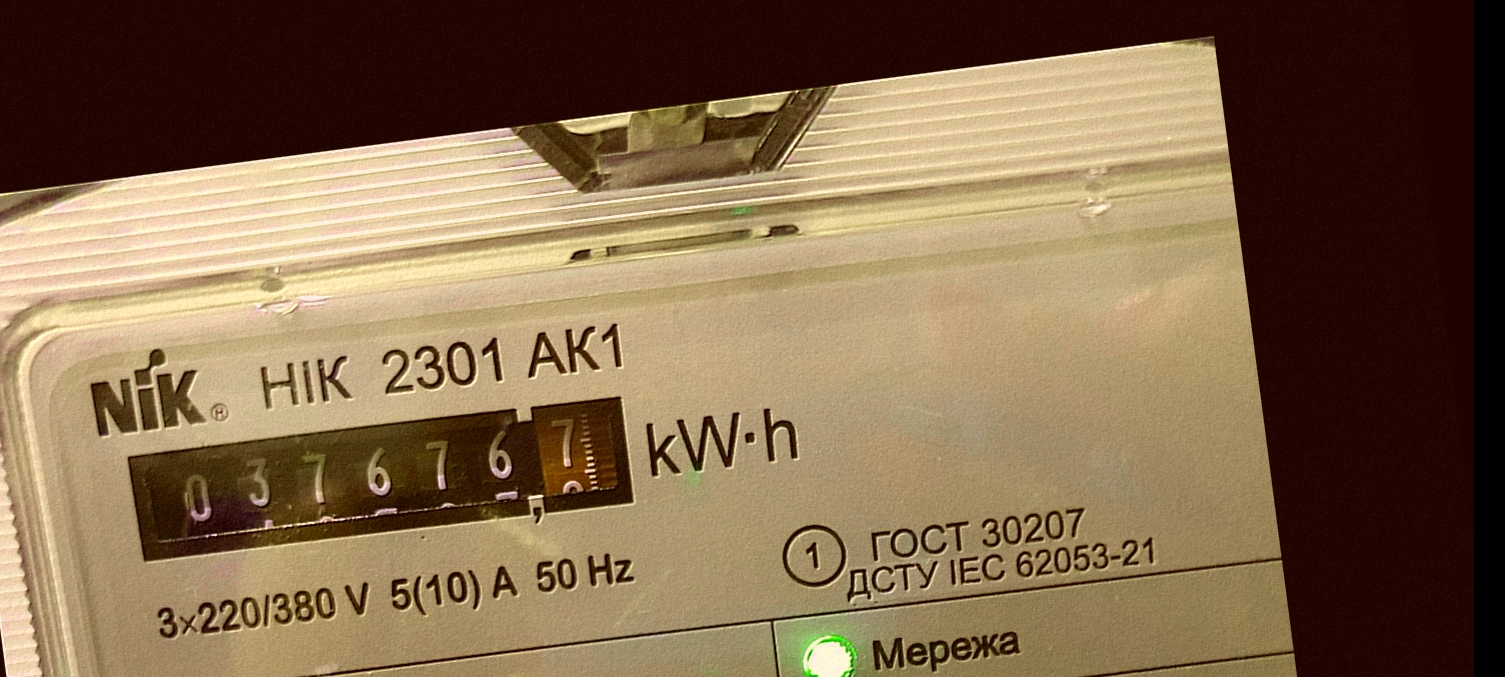0: (179, 468, 219, 527)
3: (240, 452, 275, 512)
6: (359, 442, 398, 499), (482, 425, 518, 483)
7: (420, 435, 459, 497), (298, 448, 336, 508), (548, 413, 583, 472)
screen: (111, 374, 654, 587)
